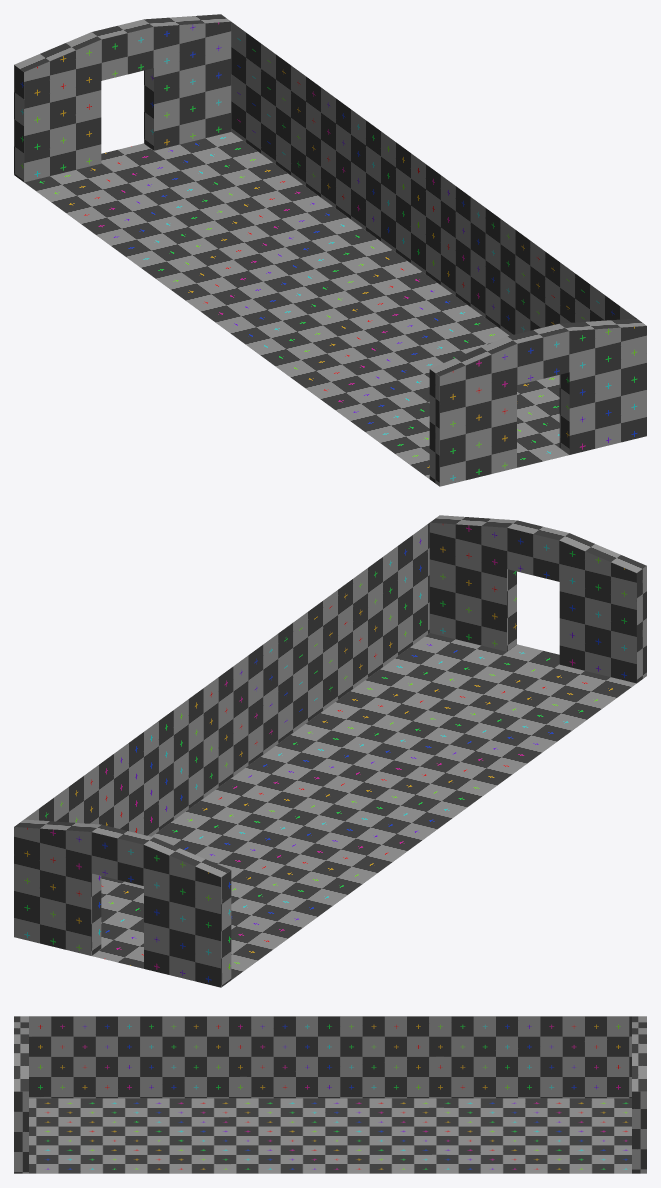
Rendered from mdl_traincar_proto.glb.
The picture shows the model from 3 angles, top to bottom: view 1: azimuth 30°, elevation 25°; view 2: azimuth 150°, elevation 25°; view 3: azimuth 270°, elevation 25°; orthographic projection. The views are drawn at different scales.
Parts seen in each view (by area): view 1: Car; view 2: Car; view 3: Car.
Boxes of the visible parts, x1,y1,x2,y2 form: Car: (14,14,646,486); Car: (14,515,646,987); Car: (14,1016,646,1173).
Size of the model in its own units: 5.9 by 3.38 by 21.
Materials: 1 (1 with a texture image).
